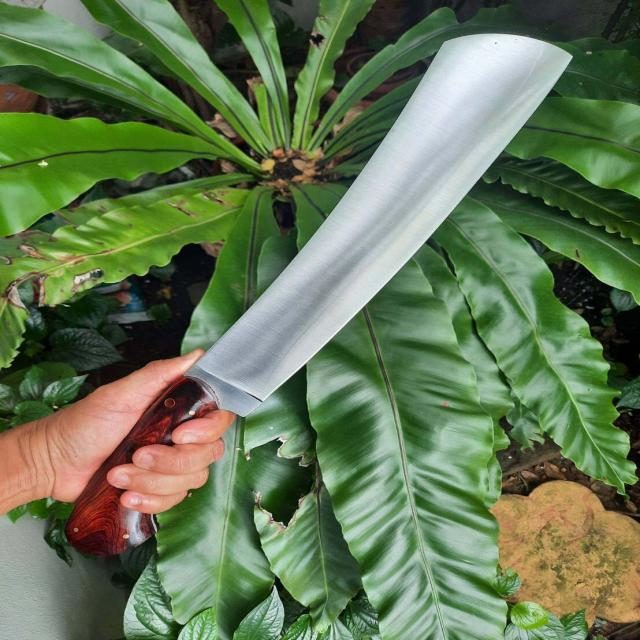eto: (50, 27, 589, 565)
